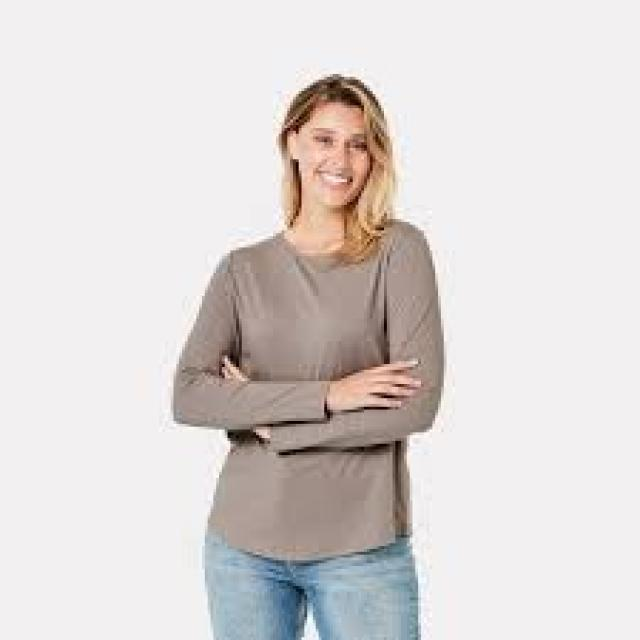plain: (168, 218, 446, 561)
